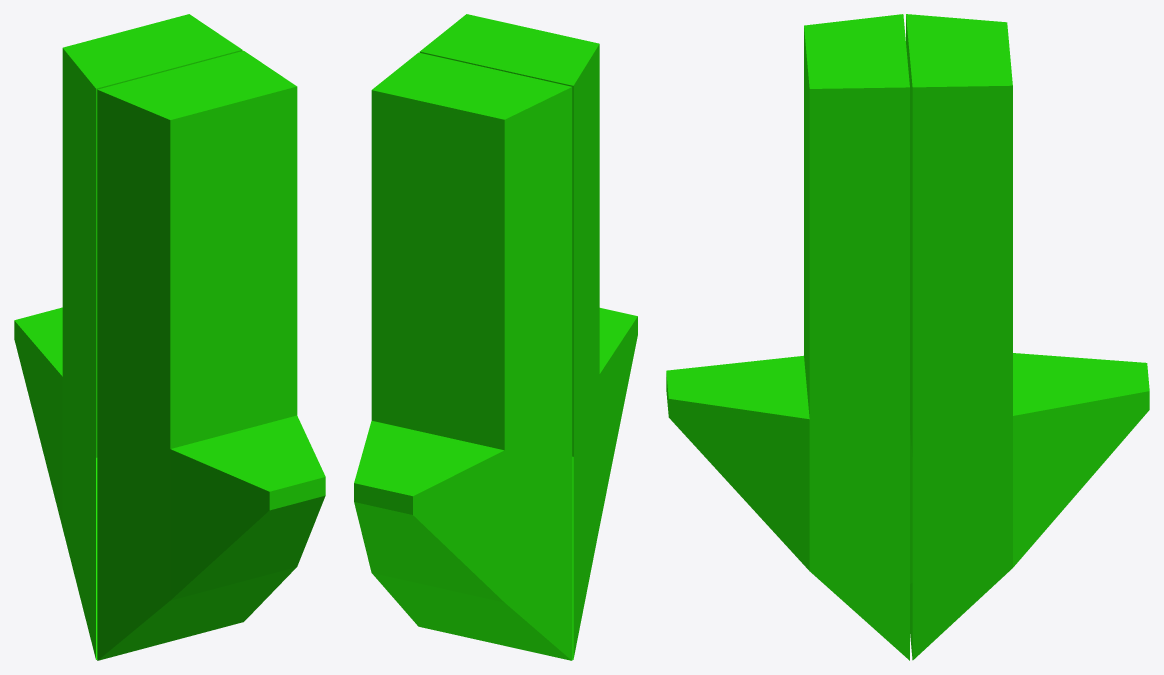
Rendered from Arrow_green.fbx.
3 renders of one model, left to right at view 1: azimuth 30°, elevation 25°; view 2: azimuth 150°, elevation 25°; view 3: azimuth 270°, elevation 25°, orthographic.
Visible parts, largest first — view 1: arrow green.001; view 2: arrow green.001; view 3: arrow green.001.
Boxes of the visible parts, left/top/right/bottom form: arrow green.001: left=14, top=14, right=325, bottom=660; arrow green.001: left=354, top=14, right=637, bottom=660; arrow green.001: left=666, top=14, right=1149, bottom=660.
Bounding box in the file's own units: 0.5495 × 1.96 × 1.5.
